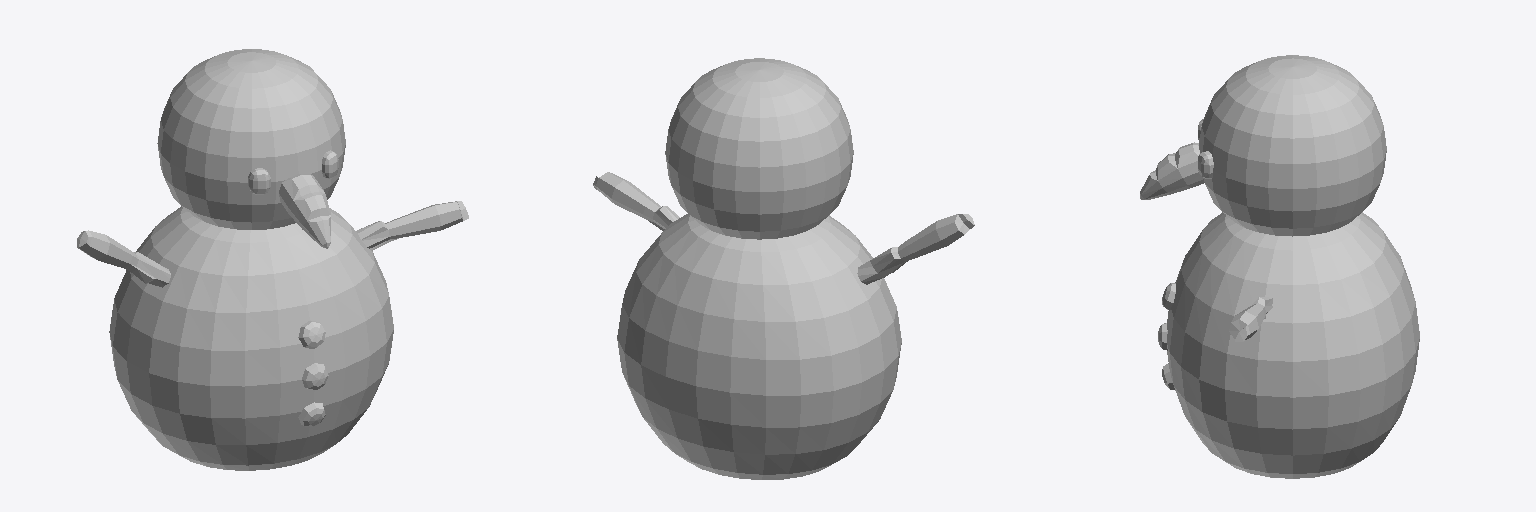
The model's file is snowman_A.obj.
3 views of the same model, side by side, from view 1: azimuth 30°, elevation 25°; view 2: azimuth 150°, elevation 25°; view 3: azimuth 270°, elevation 25° (orthographic).
Parts seen in each view (by area): view 1: snowman_A; view 2: snowman_A; view 3: snowman_A.
Boxes of the visible parts, x1=… form: snowman_A: x1=77, y1=49, x2=468, y2=470; snowman_A: x1=593, y1=58, x2=974, y2=479; snowman_A: x1=1140, y1=55, x2=1419, y2=478.
Size of the model in its own units: 2.17 by 2.05 by 1.37.